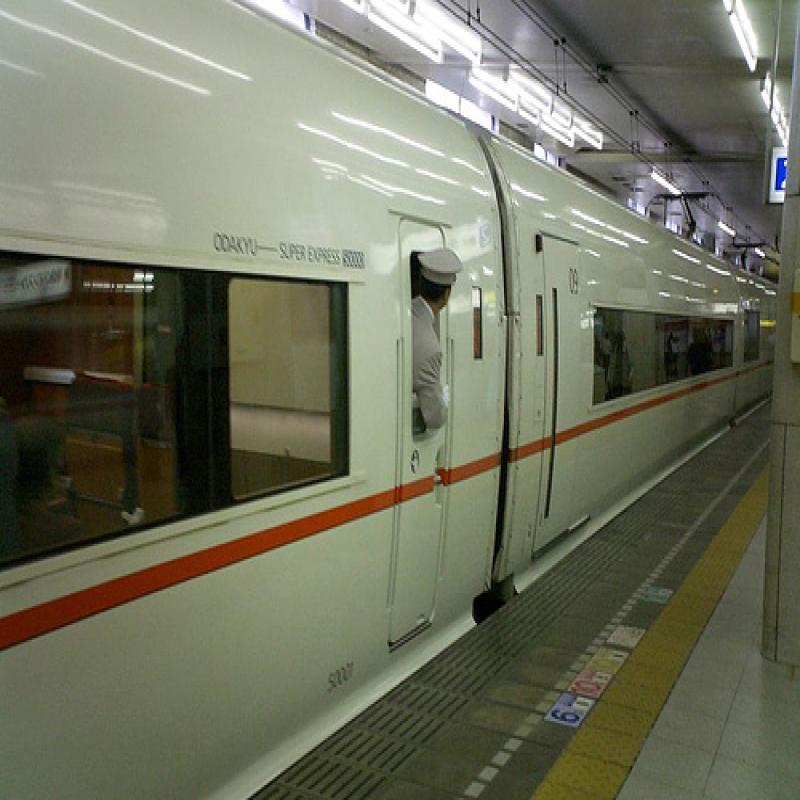train: (1, 1, 779, 799)
